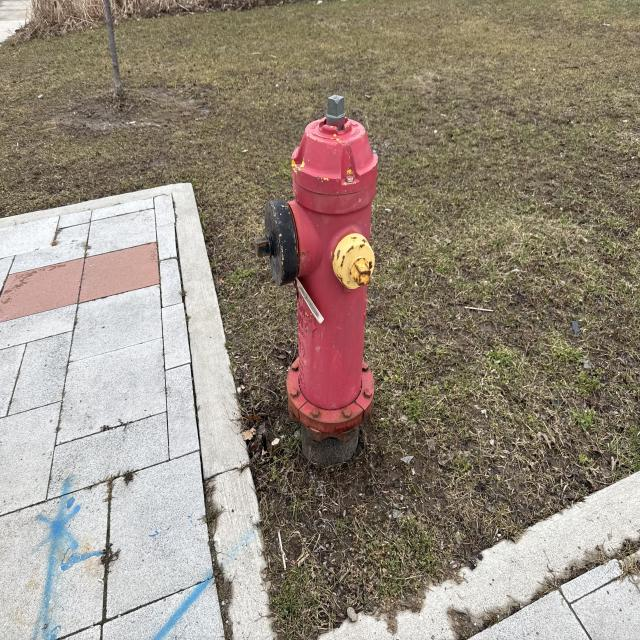Fire hydrant: (254, 95, 379, 443)
